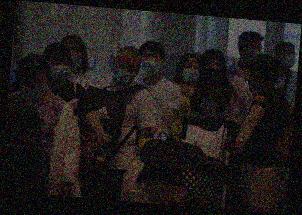mask_weared_incorrect: (62, 45, 84, 72), (142, 181, 166, 203)
with_mask: (20, 76, 49, 100), (111, 61, 137, 87), (47, 59, 72, 84), (201, 61, 224, 87), (140, 51, 162, 76), (182, 63, 200, 84), (250, 44, 263, 64), (282, 50, 296, 68)
